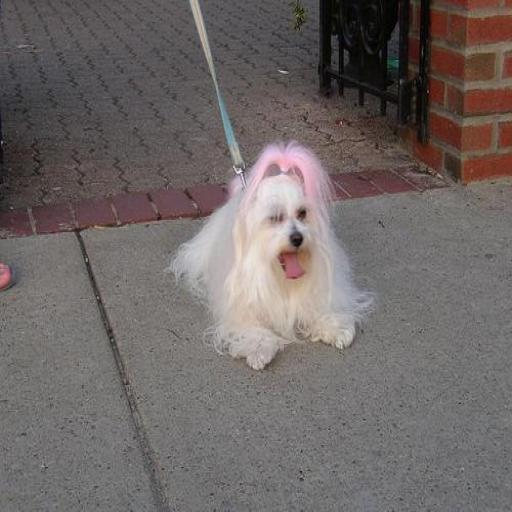dog_face: (240, 153, 324, 292)
